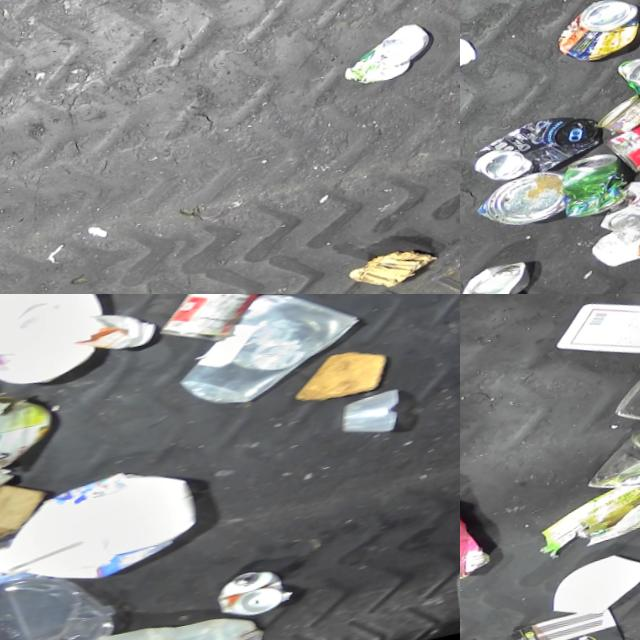can: (473, 109, 613, 189), (157, 294, 300, 355), (478, 168, 578, 236), (554, 0, 640, 69), (561, 149, 640, 220), (585, 417, 640, 506), (605, 90, 640, 181), (460, 259, 544, 294), (599, 170, 640, 240), (598, 91, 640, 140), (618, 49, 640, 115)
milk_jug: (0, 455, 230, 605), (0, 294, 126, 400), (552, 294, 640, 388)
